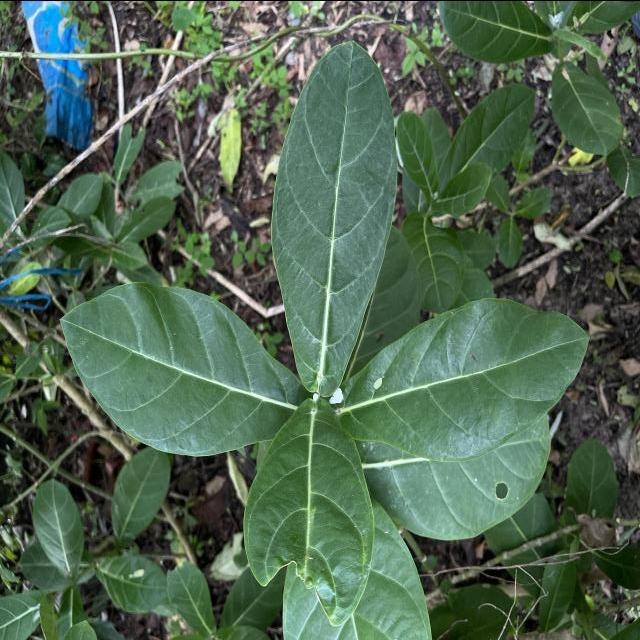Calotropis gigantea: (268, 37, 400, 400), (57, 276, 303, 457), (334, 296, 592, 463), (357, 421, 556, 542), (436, 82, 536, 198), (436, 0, 556, 63), (551, 58, 625, 156), (111, 447, 172, 541), (32, 476, 85, 577), (94, 552, 172, 612)
